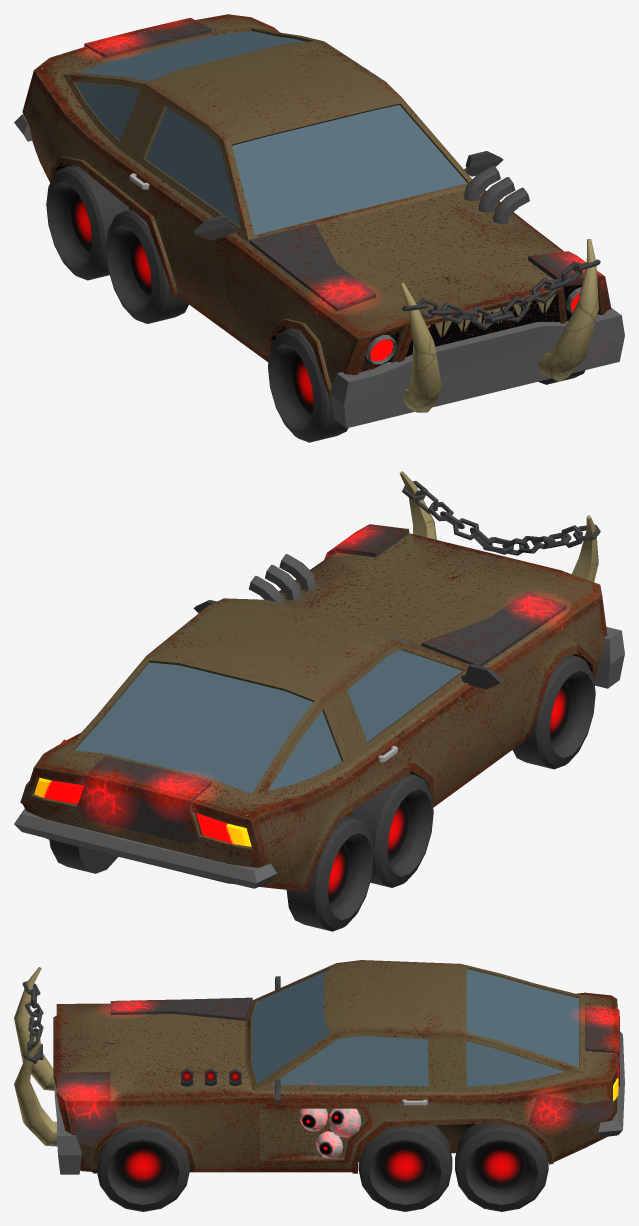
The model's file is Nightcrawler-Mutate.fbx.
3 renders of one model, top to bottom at view 1: azimuth 30°, elevation 25°; view 2: azimuth 150°, elevation 25°; view 3: azimuth 270°, elevation 25°, orthographic. The views are drawn at different scales.
Visible parts, largest first — view 1: NightcrawlerMutate, NightcrawlerMutateW-BR2, NightcrawlerMutateW-BR1, NightcrawlerMutateW-FR; view 2: NightcrawlerMutate, NightcrawlerMutateW-BR2, NightcrawlerMutateW-BR1, NightcrawlerMutateW-FR, NightcrawlerMutateW-BL2; view 3: NightcrawlerMutate, NightcrawlerMutateW-BL2, NightcrawlerMutateW-BL1, NightcrawlerMutateW-FL.
Part boxes in pixels (x1,y1,x2,y2): NightcrawlerMutate: (14,14,624,428); NightcrawlerMutateW-BR2: (46,165,129,280); NightcrawlerMutateW-BR1: (106,209,188,323); NightcrawlerMutateW-FR: (268,328,348,442); NightcrawlerMutate: (14,471,624,891); NightcrawlerMutateW-BR2: (286,815,373,931); NightcrawlerMutateW-BR1: (350,773,433,887); NightcrawlerMutateW-FR: (512,655,595,769); NightcrawlerMutateW-BL2: (49,840,117,873); NightcrawlerMutate: (14,960,624,1174); NightcrawlerMutateW-BL2: (455,1123,548,1211); NightcrawlerMutateW-BL1: (358,1125,452,1211); NightcrawlerMutateW-FL: (96,1124,190,1211).
Size of the model in its own units: 234 by 152 by 498.
